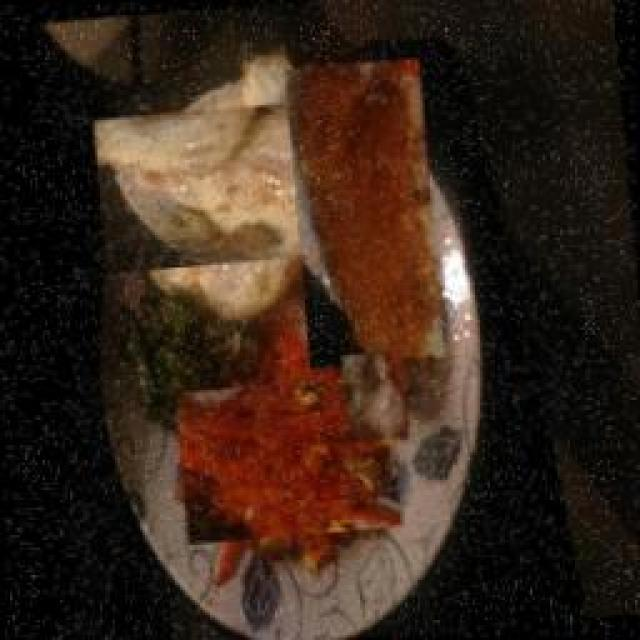carrot_eggs: (190, 360, 390, 560)
fried_chicken: (285, 55, 448, 370)
fried_eggs: (115, 80, 330, 295)
rice: (343, 350, 413, 443)
